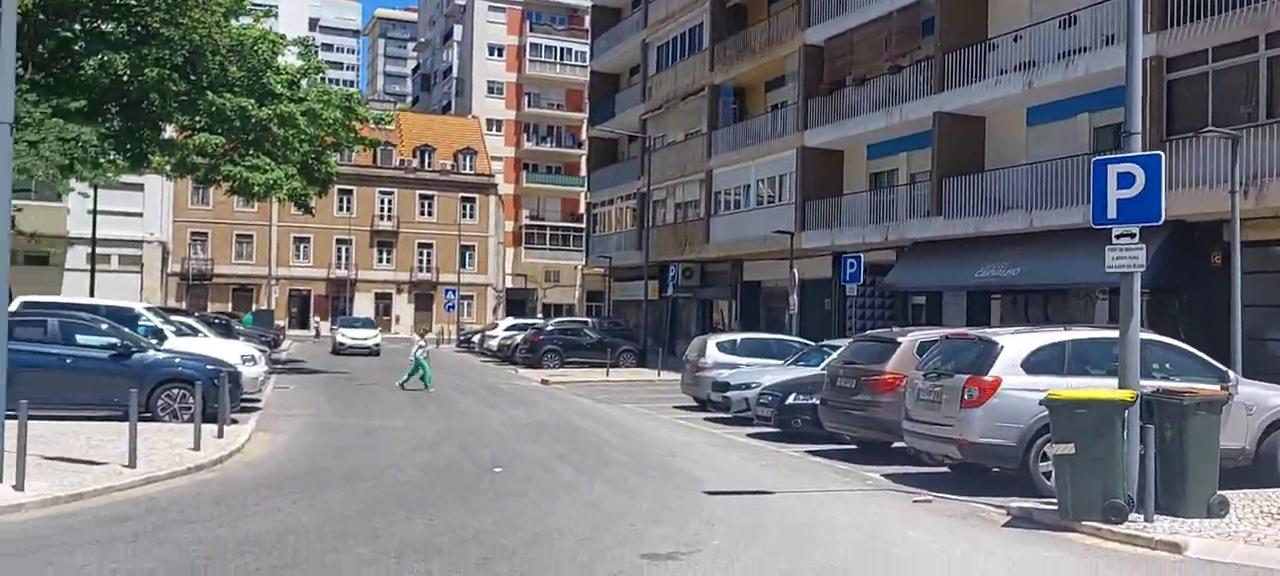Estacionamento autorizado: (1088, 151, 1171, 231)
